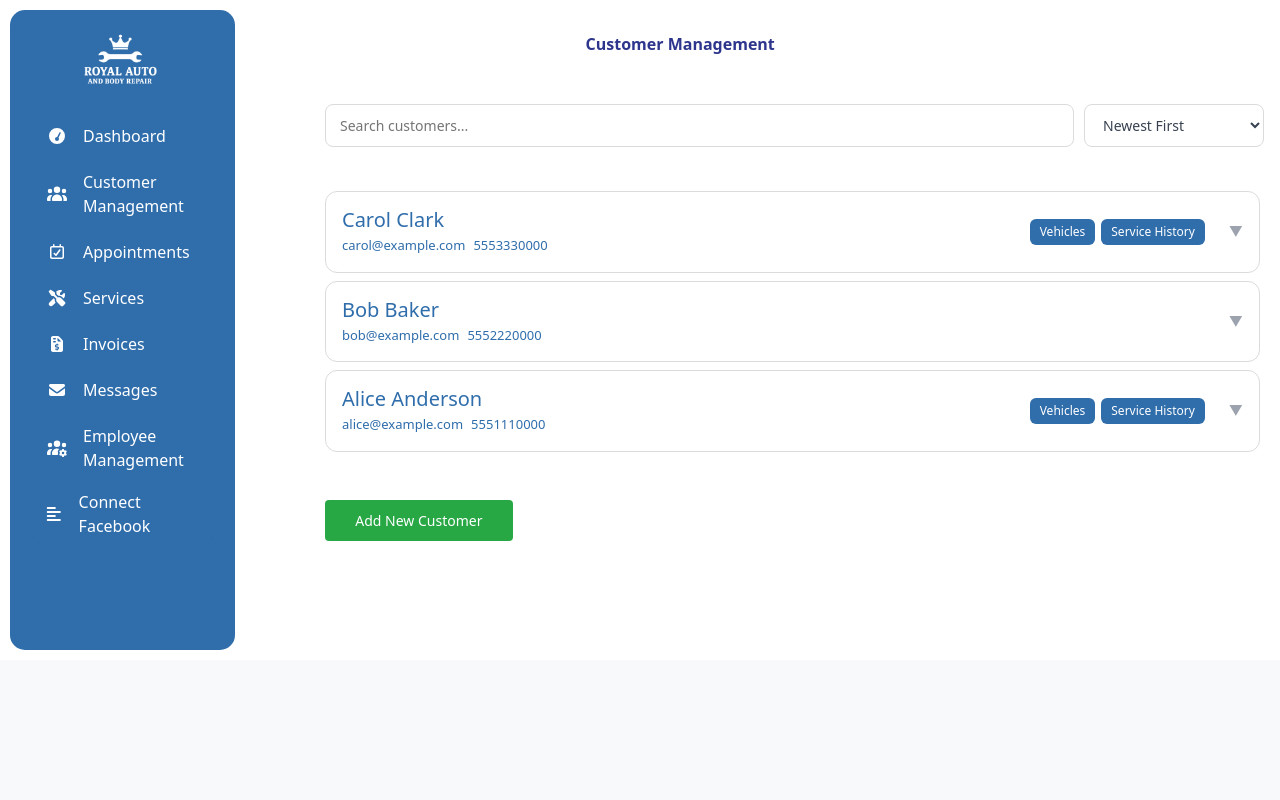
Test: Card Expand / Collapse › expands card on header click
Check: the heading "Alice Anderson" is shown, box [342,385,482,412]
Click the text "Alice Anderson": (364, 398) [326,371,1259,450]
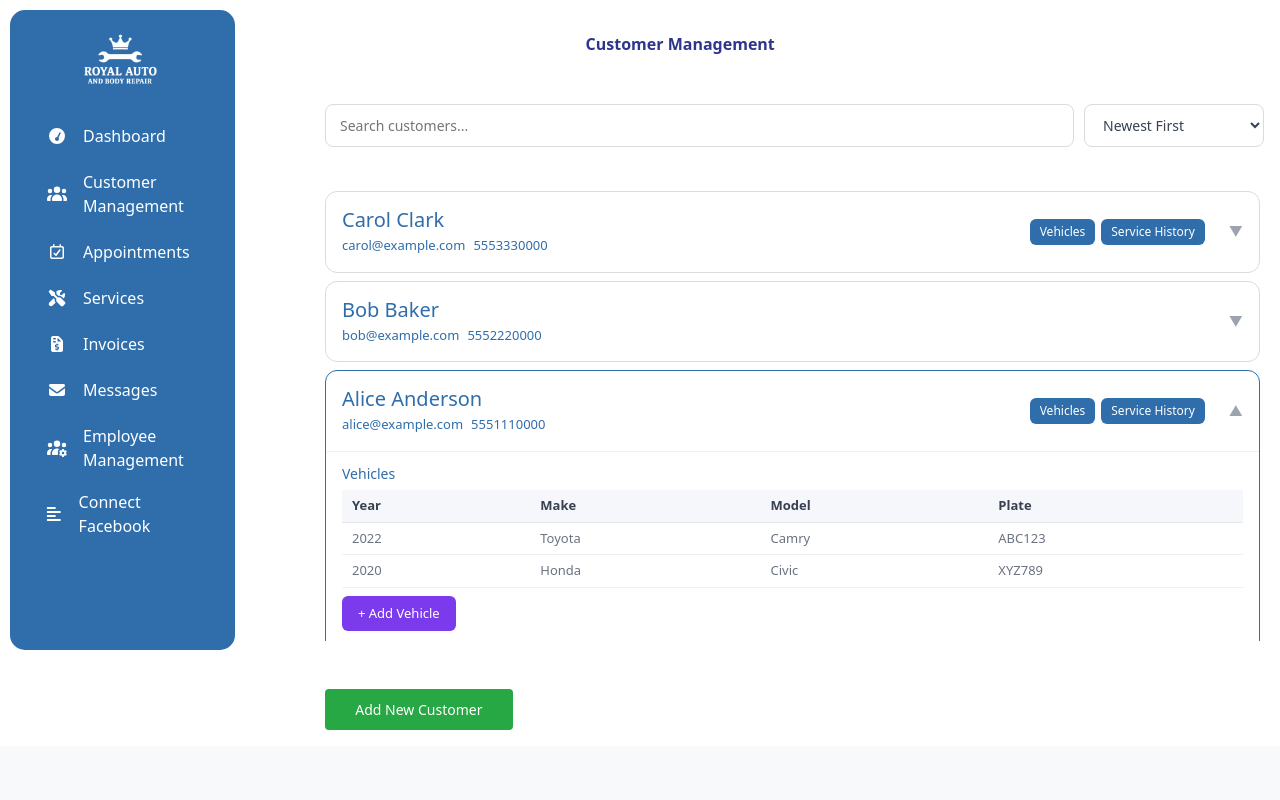
Check: the heading "Vehicles" is shown, box [342,464,395,482]
